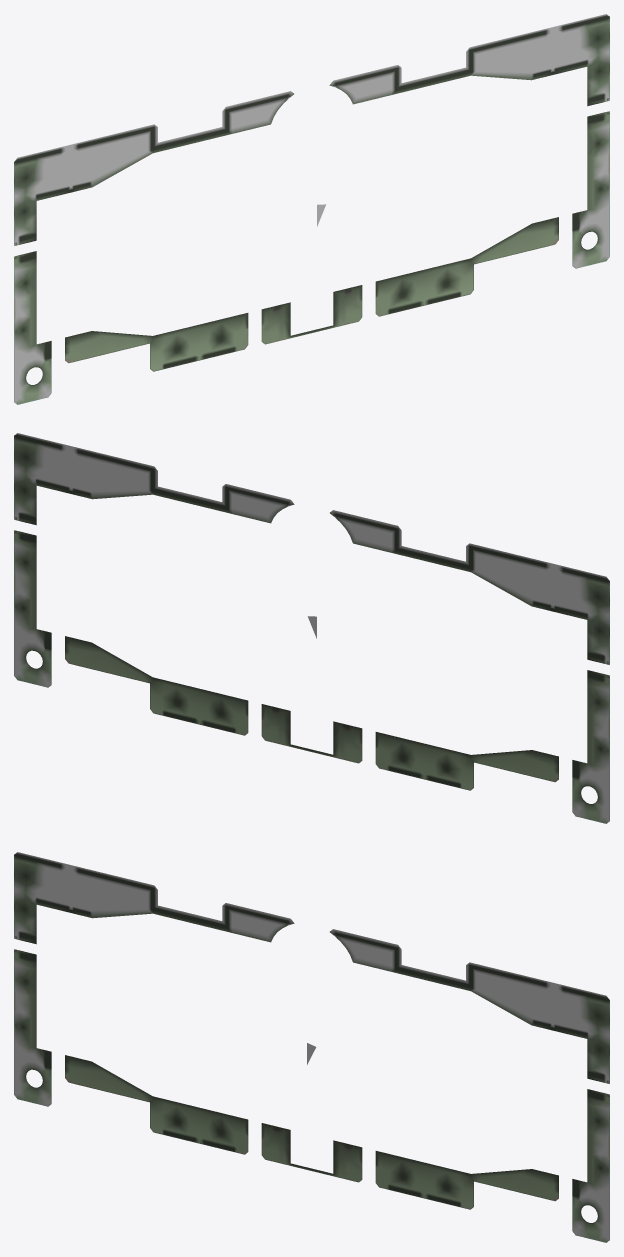
The model's file is SM_000168_merge_ground01_grass02_1.fbx.
3 renders of one model, top to bottom at view 1: azimuth 30°, elevation 25°; view 2: azimuth 150°, elevation 25°; view 3: azimuth 330°, elevation 25°, orthographic.
Parts seen in each view (by area): view 1: SM_000168.001; view 2: SM_000168.001; view 3: SM_000168.001.
Boxes of the visible parts, bbox=[...] form: SM_000168.001: bbox=[14, 14, 609, 404]; SM_000168.001: bbox=[14, 433, 609, 823]; SM_000168.001: bbox=[14, 852, 609, 1242].
Bounding box in the file's own units: 152 × 60.1 × 2.18.
